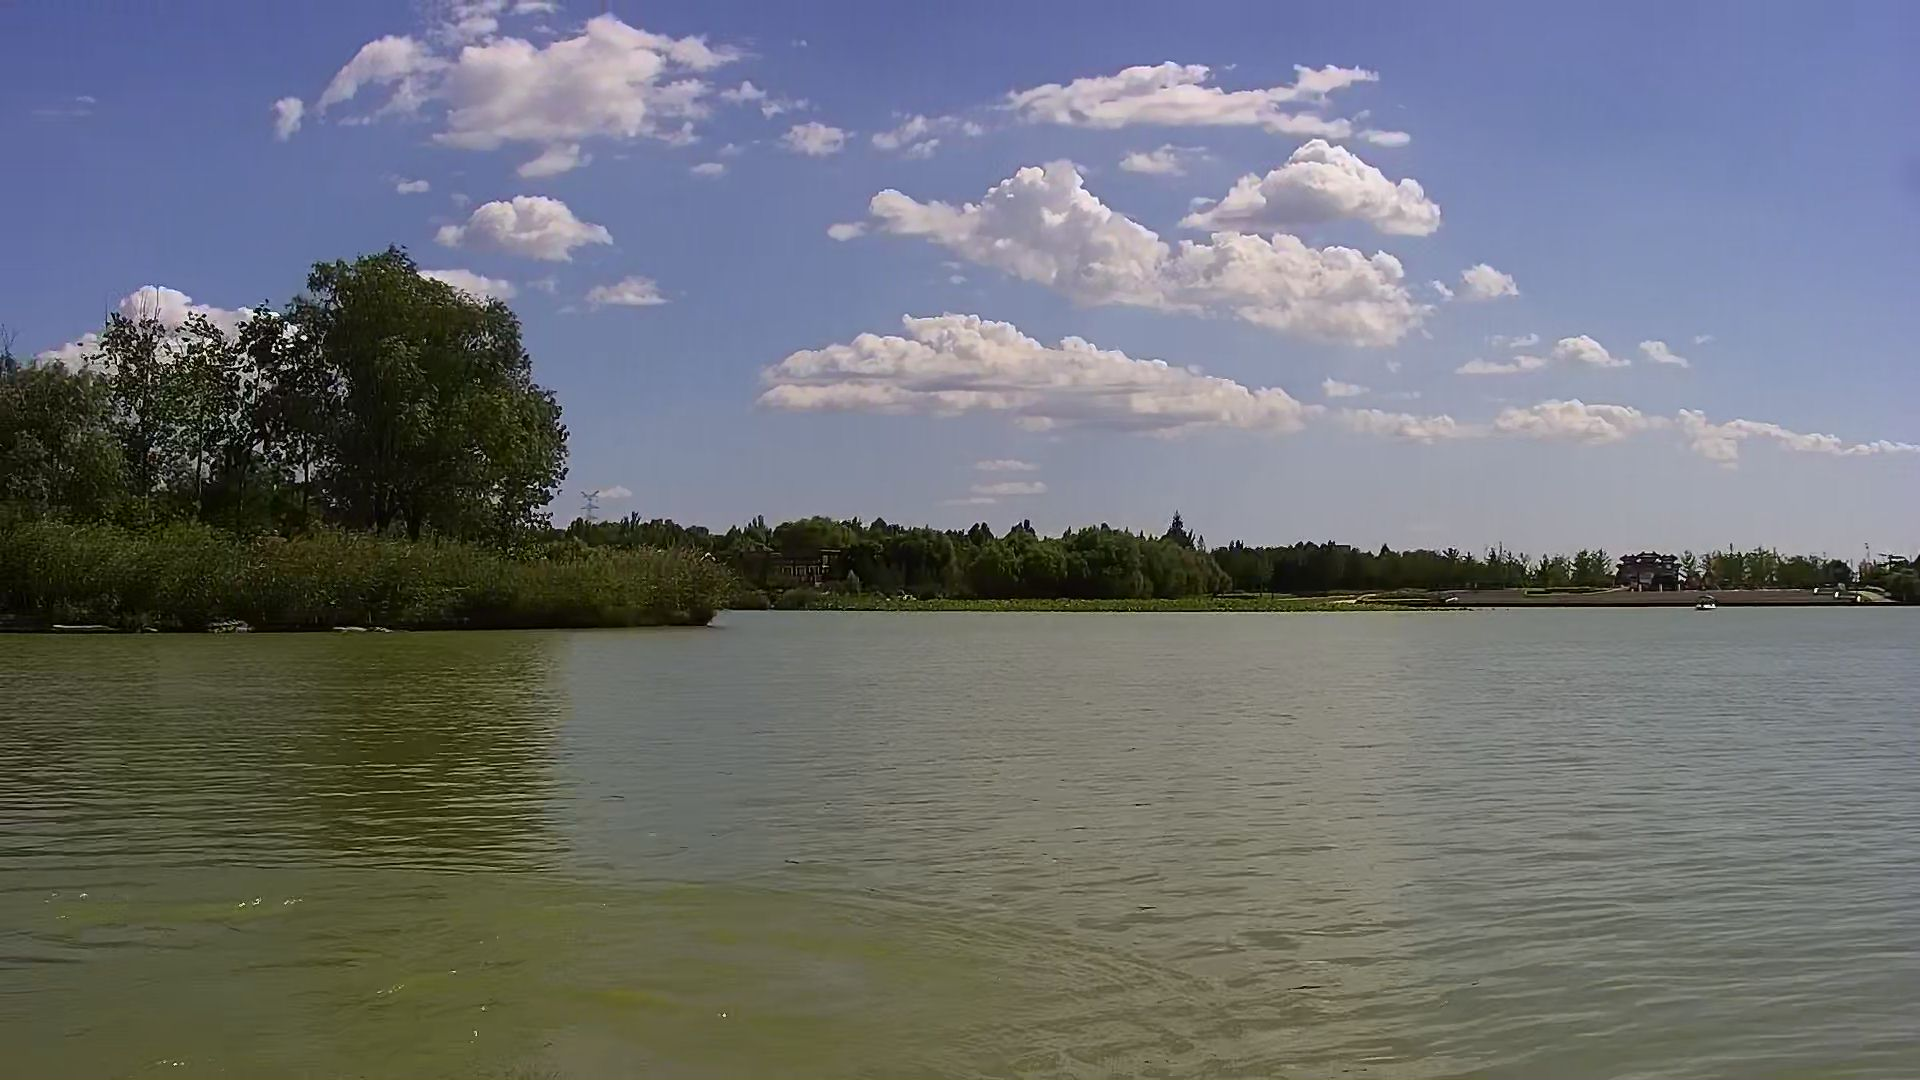grass: (814, 601, 1495, 613)
rock: (330, 615, 392, 632), (51, 618, 108, 636), (210, 615, 252, 634)
